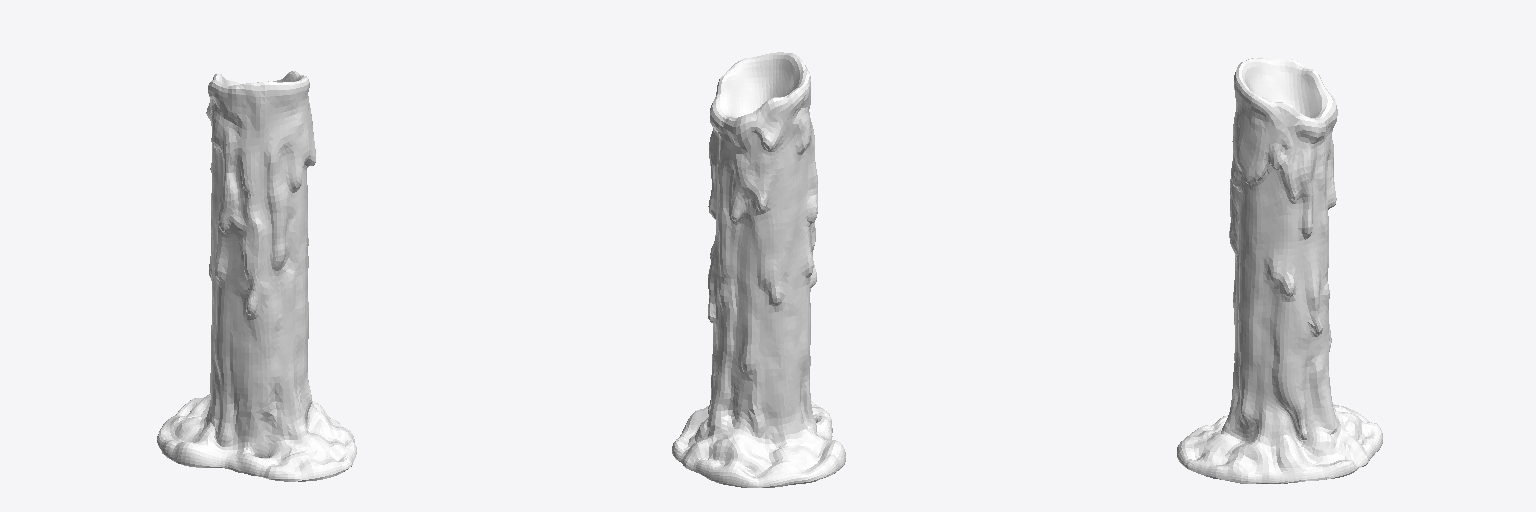
The model's file is candle_3.obj.
The picture shows the model from 3 angles: view 1: azimuth 30°, elevation 25°; view 2: azimuth 150°, elevation 25°; view 3: azimuth 270°, elevation 25°; orthographic projection.
Visible parts, largest first — view 1: candle_2.002; view 2: candle_2.002; view 3: candle_2.002.
Boxes of the visible parts, x1,y1,x2,y2 form: candle_2.002: [157, 71, 356, 481]; candle_2.002: [672, 52, 845, 487]; candle_2.002: [1177, 57, 1382, 483].
Bounding box in the file's own units: 0.1227 × 0.2782 × 0.1372.